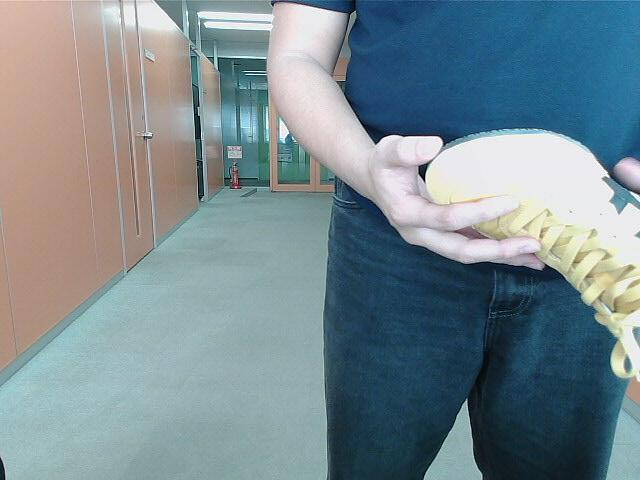Shoes: (419, 123, 640, 352)
